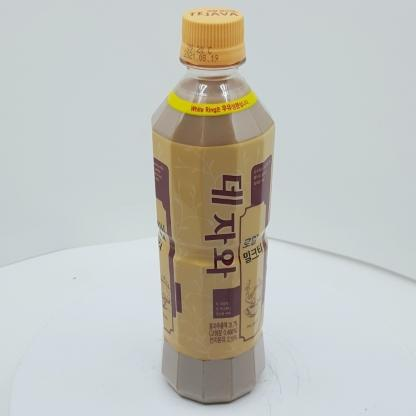-------------500ML: (151, 7, 275, 403)
